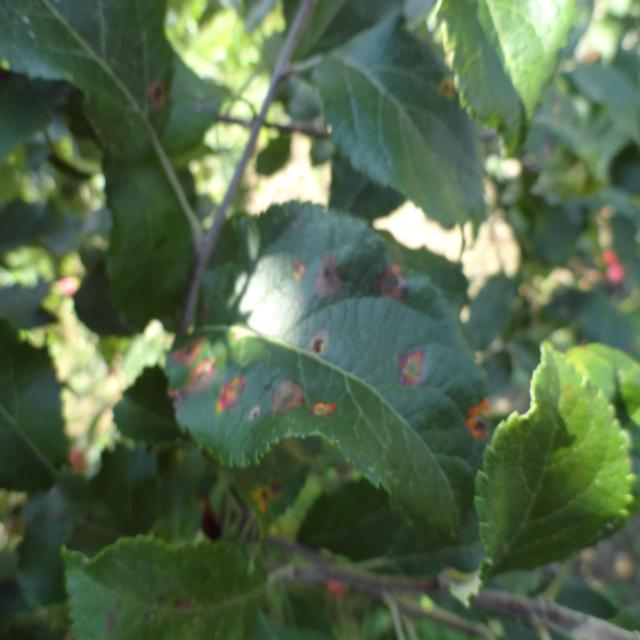Rust: (458, 378, 499, 463), (309, 238, 353, 314), (394, 330, 431, 410), (164, 356, 211, 417), (370, 243, 414, 308), (216, 358, 250, 432), (250, 471, 293, 524), (307, 391, 349, 439), (138, 75, 178, 122), (168, 334, 206, 367), (435, 67, 459, 110), (284, 248, 309, 289)
